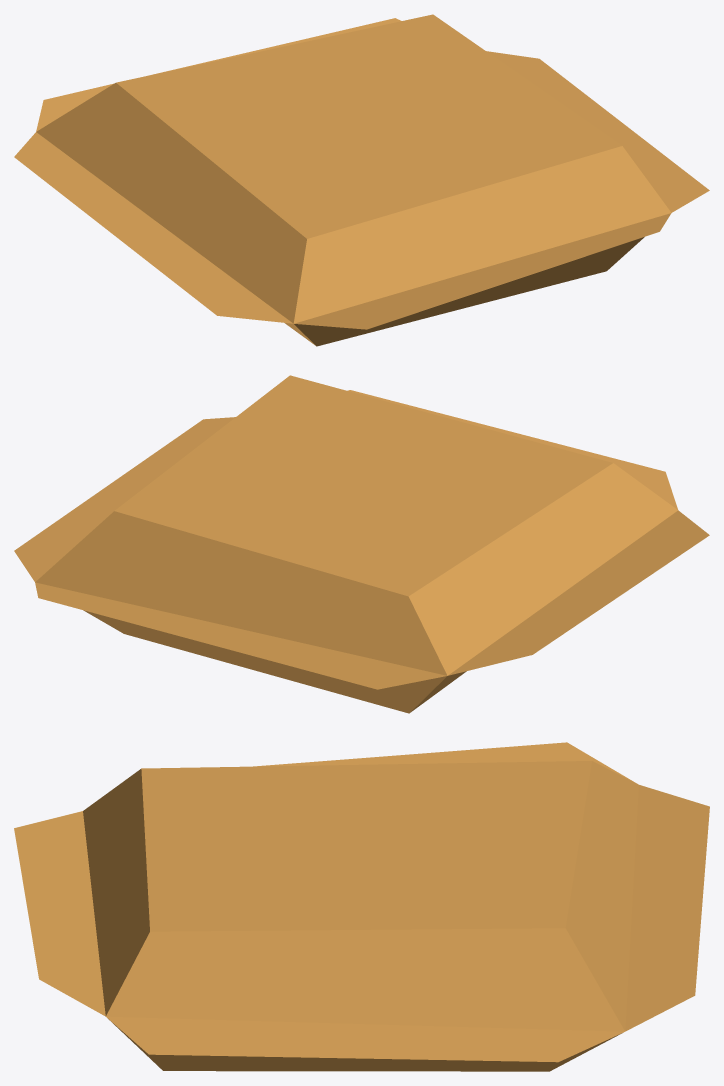
Rendered from candy05.fbx.
The picture shows the model from 3 angles, top to bottom: view 1: azimuth 30°, elevation 25°; view 2: azimuth 150°, elevation 25°; view 3: azimuth 270°, elevation 25°; orthographic projection. The views are drawn at different scales.
Parts seen in each view (by area): view 1: candyE; view 2: candyE; view 3: candyE.
Part boxes in pixels (box(x1,y1,x2,y2)): candyE: box(14, 14, 709, 346); candyE: box(14, 375, 709, 713); candyE: box(14, 742, 709, 1071).
Bounding box in the file's own units: 0.6038 × 0.141 × 0.6124.
